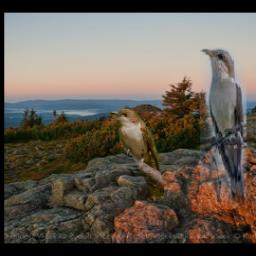Cuckoo: (200, 47, 246, 227), (109, 106, 165, 199)
